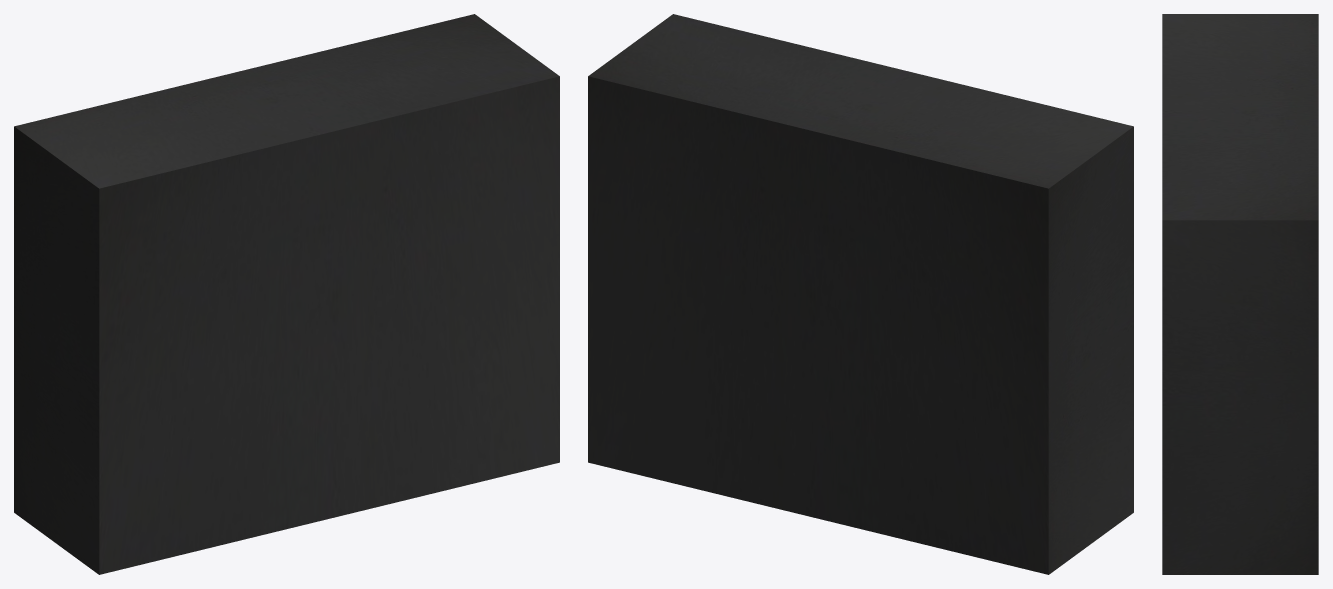
File: DicsBox.fbx
The picture shows the model from 3 angles, left to right: view 1: azimuth 30°, elevation 25°; view 2: azimuth 150°, elevation 25°; view 3: azimuth 270°, elevation 25°; orthographic projection. The views are drawn at different scales.
Parts seen in each view (by area): view 1: Cube; view 2: Cube; view 3: Cube.
Part boxes in pixels (x1,y1,x2,y2): Cube: [14, 14, 559, 574]; Cube: [588, 14, 1133, 574]; Cube: [1162, 14, 1318, 574].
Size of the model in its own units: 476 by 382 by 152.
